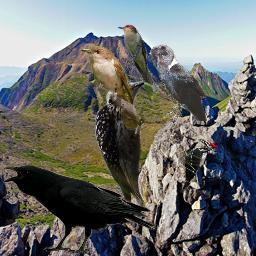Crow: (3, 165, 156, 255), (149, 44, 208, 121)
Cuckoo: (80, 44, 140, 130), (117, 24, 160, 105)
Woodpecker: (90, 72, 155, 216), (180, 139, 218, 193)
